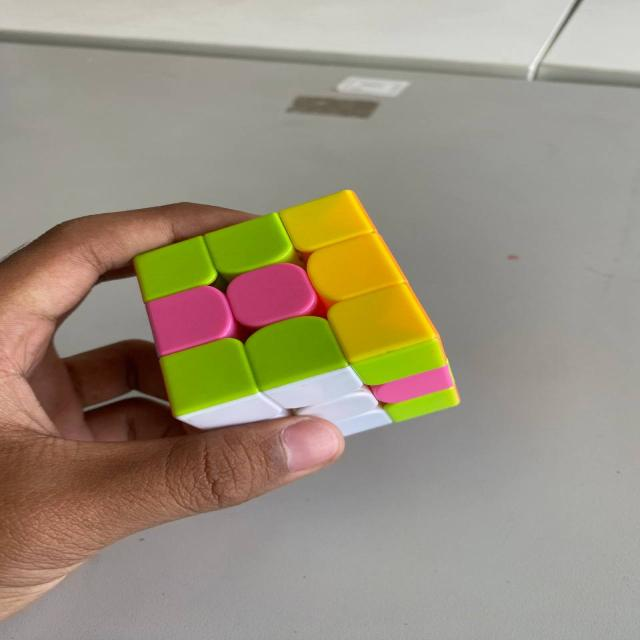Cube-3x3: (107, 210, 473, 470)
